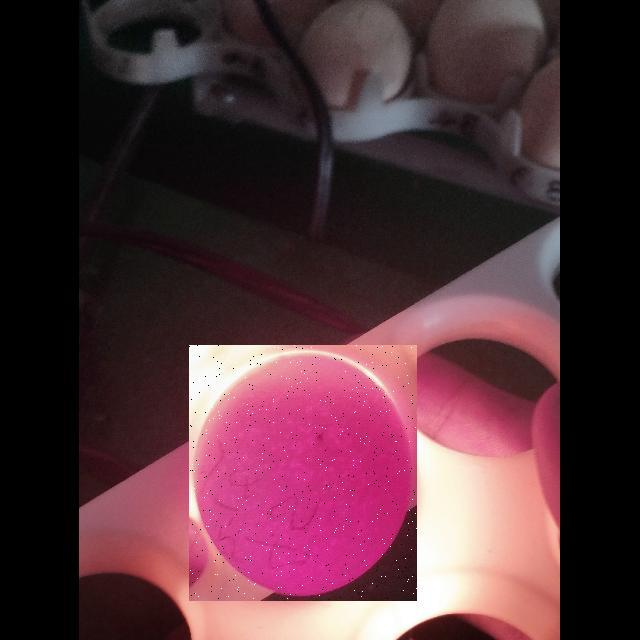Infertile: (189, 345, 417, 601)
